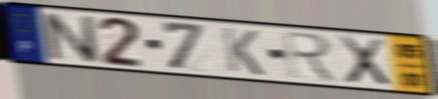2: (96, 16, 145, 70)
7: (160, 19, 209, 72)
K: (220, 25, 266, 78)
N: (39, 10, 103, 65)
R: (280, 29, 341, 85)
X: (336, 34, 392, 88)
